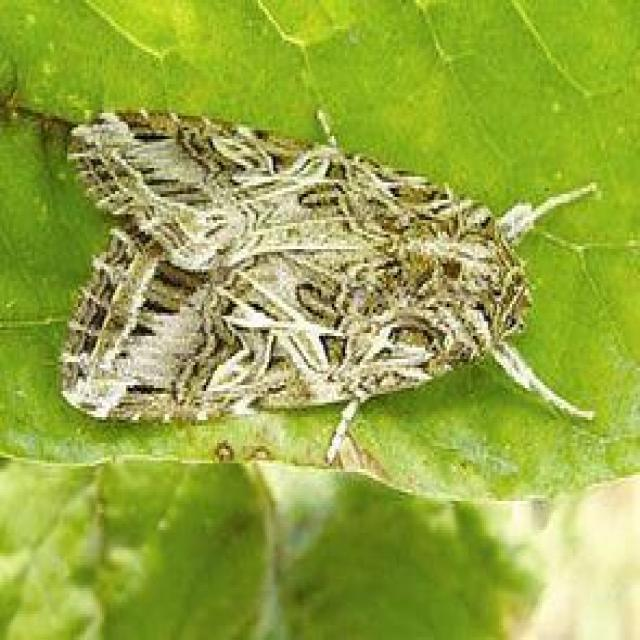armyworm: (78, 85, 567, 475)
